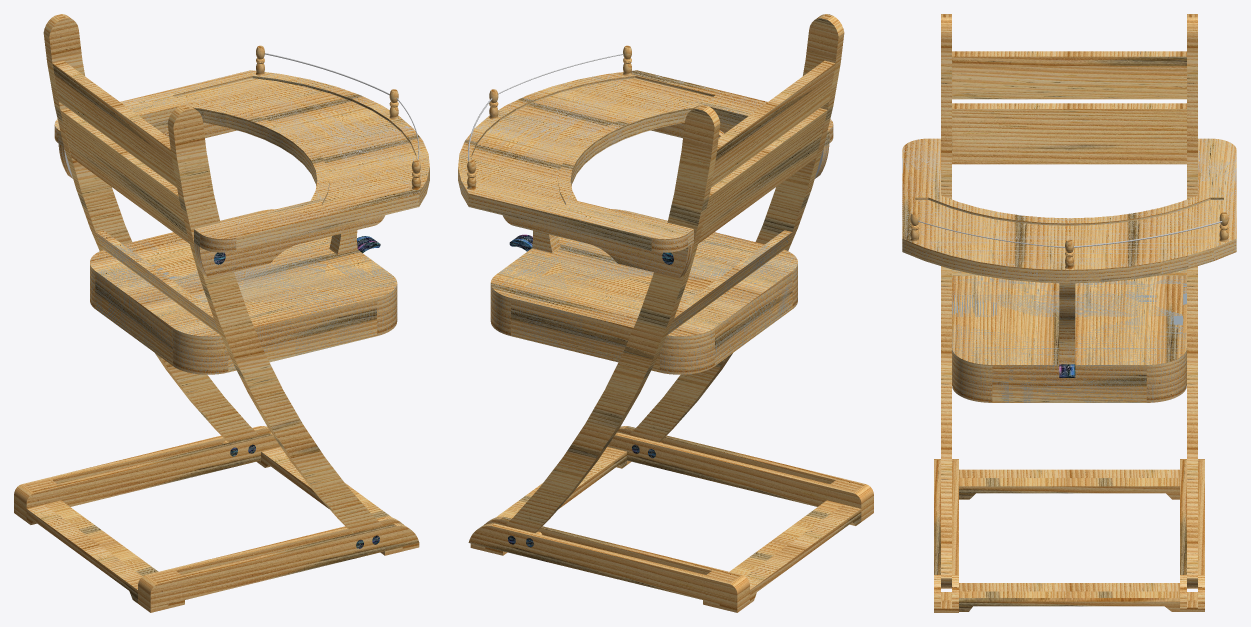
Rendered from baby_chair.dae.
3 renders of one model, left to right at view 1: azimuth 30°, elevation 25°; view 2: azimuth 150°, elevation 25°; view 3: azimuth 270°, elevation 25°, orthographic.
Visible parts, largest first — view 1: group_5 (×2), group_0 (×2), group_2, group_10 (×2), group_1, group_11, group_12, group_14, group_13; view 2: group_5 (×2), group_0 (×2), group_12, group_10 (×2), group_11, group_1, group_2, group_14, group_13; view 3: group_5 (×3), group_0, group_10 (×2), group_13, group_14, group_2, group_12, group_1, group_11.
Part boxes in pixels (x1=…): group_5 (×2): x1=54, y1=70, x2=429, y2=278; group_0 (×2): x1=90, y1=209, x2=397, y2=374; group_2: x1=167, y1=104, x2=382, y2=533; group_10 (×2): x1=52, y1=60, x2=189, y2=243; group_1: x1=138, y1=516, x2=419, y2=608; group_11: x1=14, y1=426, x2=280, y2=517; group_12: x1=43, y1=14, x2=258, y2=442; group_14: x1=14, y1=500, x2=158, y2=603; group_13: x1=256, y1=447, x2=391, y2=518; group_5 (×2): x1=458, y1=70, x2=833, y2=278; group_0 (×2): x1=490, y1=209, x2=797, y2=374; group_12: x1=505, y1=104, x2=720, y2=532; group_10 (×2): x1=698, y1=60, x2=835, y2=243; group_11: x1=468, y1=516, x2=749, y2=608; group_1: x1=607, y1=426, x2=873, y2=517; group_2: x1=629, y1=14, x2=844, y2=442; group_14: x1=703, y1=500, x2=861, y2=612; group_13: x1=470, y1=447, x2=626, y2=555; group_5 (×3): x1=902, y1=138, x2=1236, y2=364; group_0: x1=952, y1=275, x2=1186, y2=402; group_10 (×2): x1=952, y1=51, x2=1186, y2=164; group_13: x1=959, y1=583, x2=1204, y2=611; group_14: x1=959, y1=469, x2=1179, y2=499; group_2: x1=941, y1=14, x2=951, y2=588; group_12: x1=1187, y1=14, x2=1197, y2=588; group_1: x1=934, y1=459, x2=958, y2=608; group_11: x1=1180, y1=459, x2=1204, y2=608.
Size of the model in its own units: 26.61 by 24.47 by 39.39.
